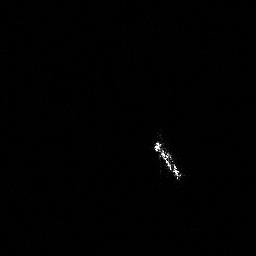ship: (147, 135, 187, 184)
